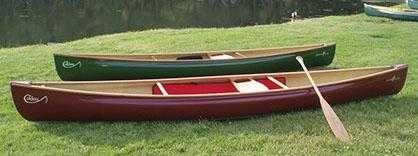kayak: (12, 60, 412, 124), (54, 39, 337, 82), (363, 1, 418, 22)
